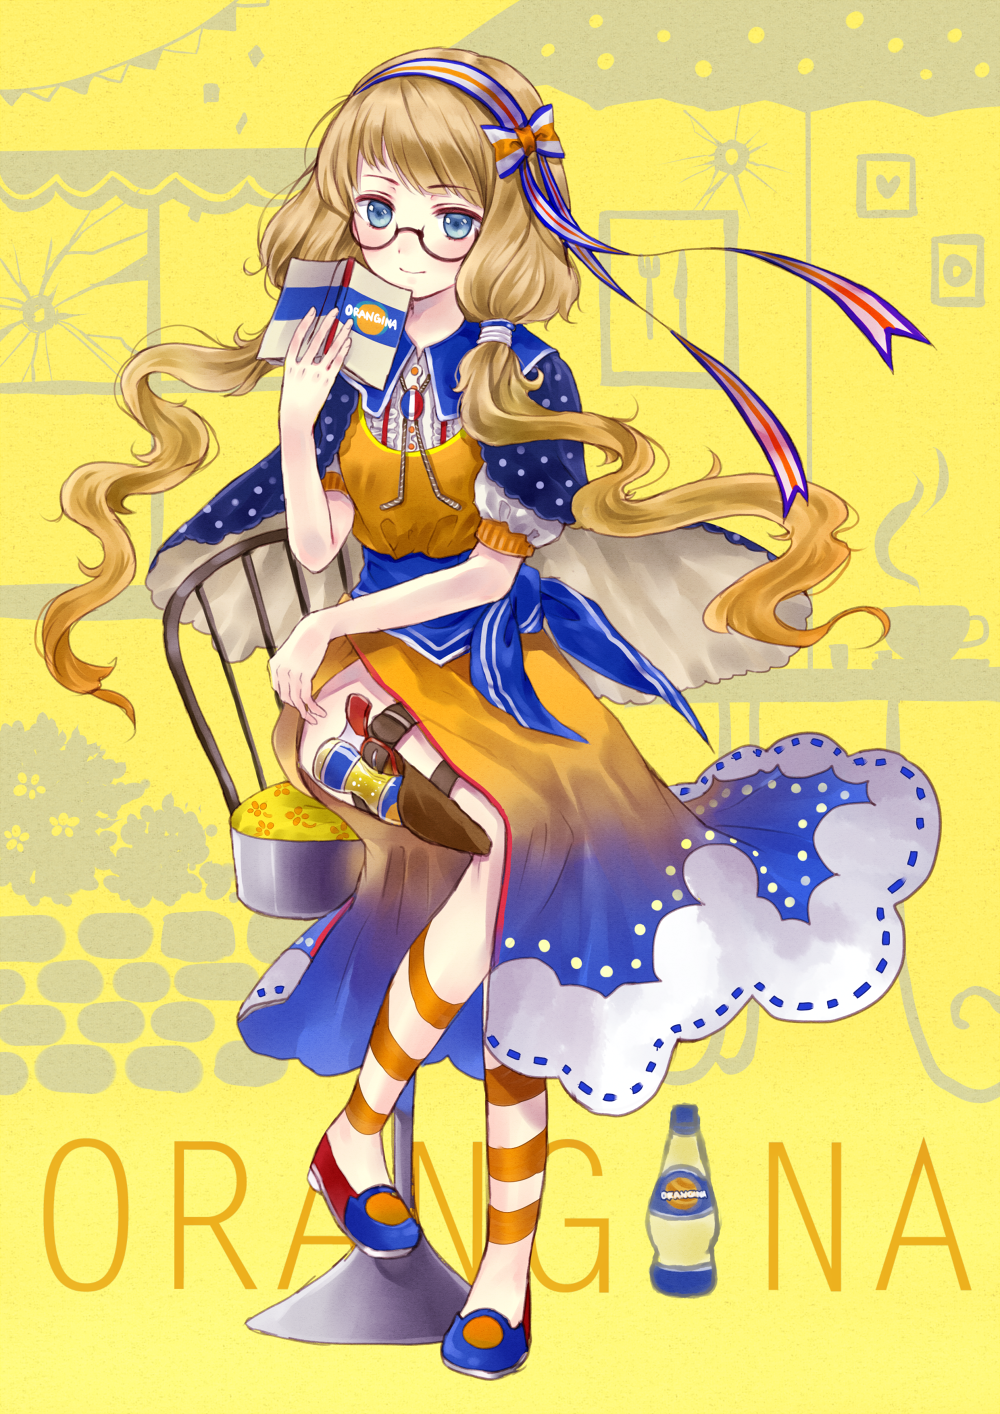纸片人正脸: (281, 44, 572, 308)
